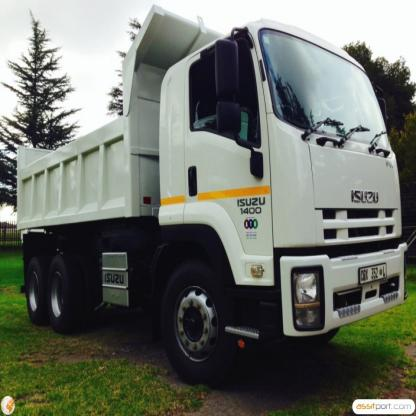dump_truck: (6, 0, 408, 392)
